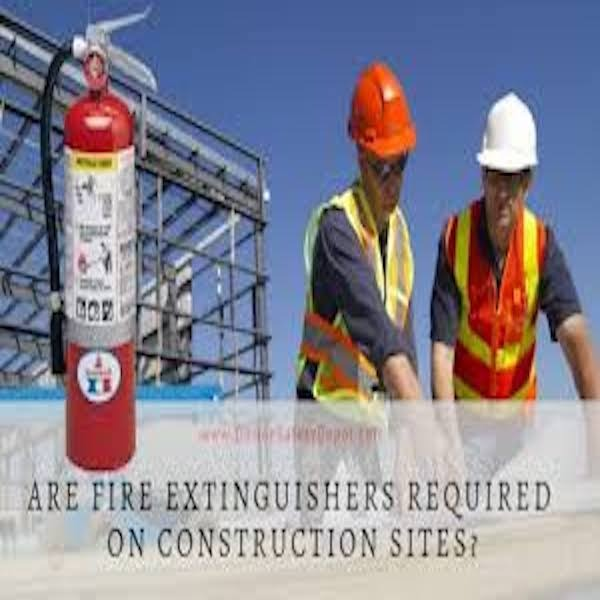helmet: (350, 64, 418, 163), (477, 93, 541, 172)
vest: (302, 181, 415, 399), (443, 205, 542, 404)
